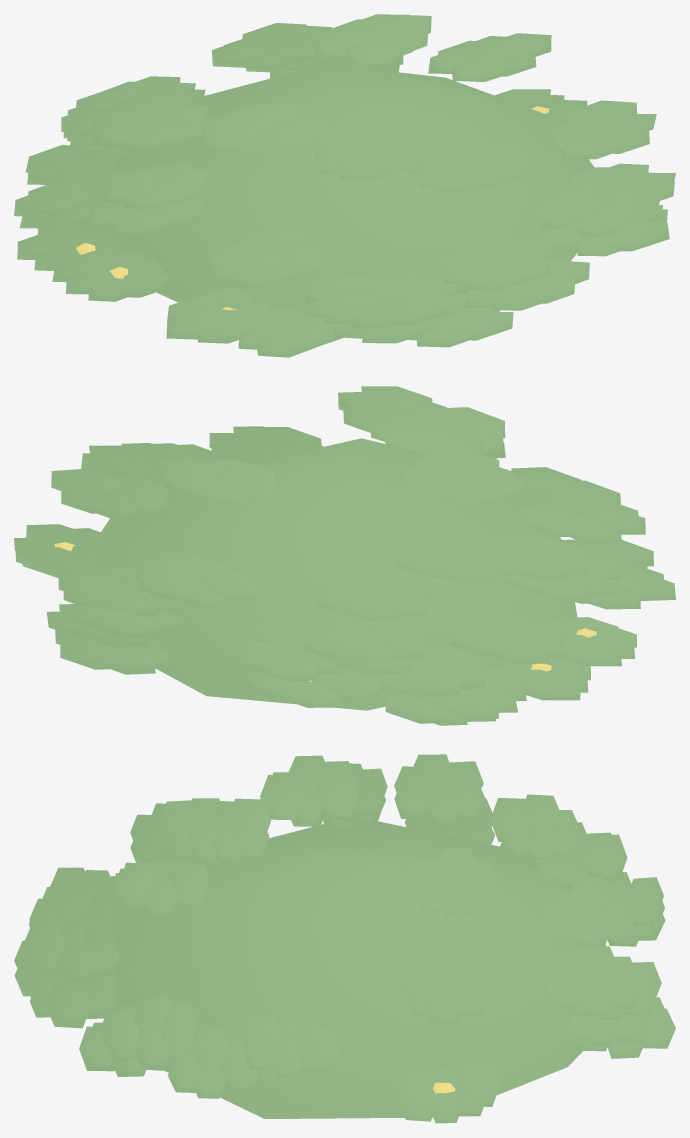
File: Blender_Naupaka_3.glb
3 renders of one model, top to bottom at view 1: azimuth 30°, elevation 25°; view 2: azimuth 150°, elevation 25°; view 3: azimuth 270°, elevation 25°, orthographic. The views are drawn at different scales.
Parts seen in each view (by area): view 1: Blender_Naupaka_3; view 2: Blender_Naupaka_3; view 3: Blender_Naupaka_3.
Boxes of the visible parts, bbox=[...] form: Blender_Naupaka_3: bbox=[14, 14, 675, 357]; Blender_Naupaka_3: bbox=[14, 386, 675, 725]; Blender_Naupaka_3: bbox=[14, 754, 675, 1123].
Bounding box in the file's own units: 3.87 × 1.07 × 3.56.
